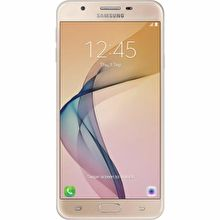phone: (50, 1, 170, 220)
